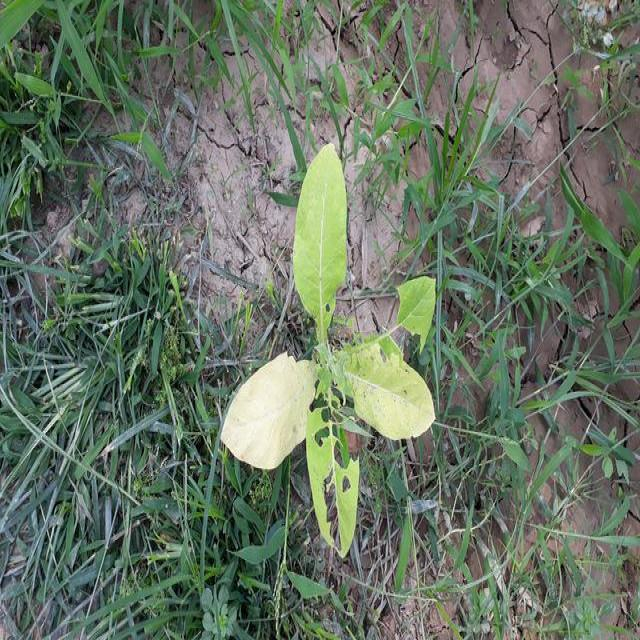crop: (222, 136, 440, 568)
